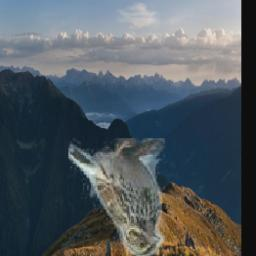Sparrow: (67, 138, 164, 256)
